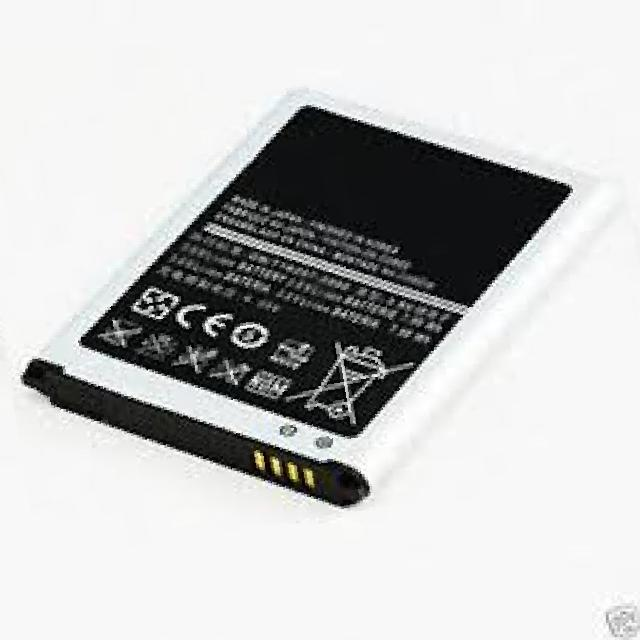Battery: (21, 81, 640, 508)
